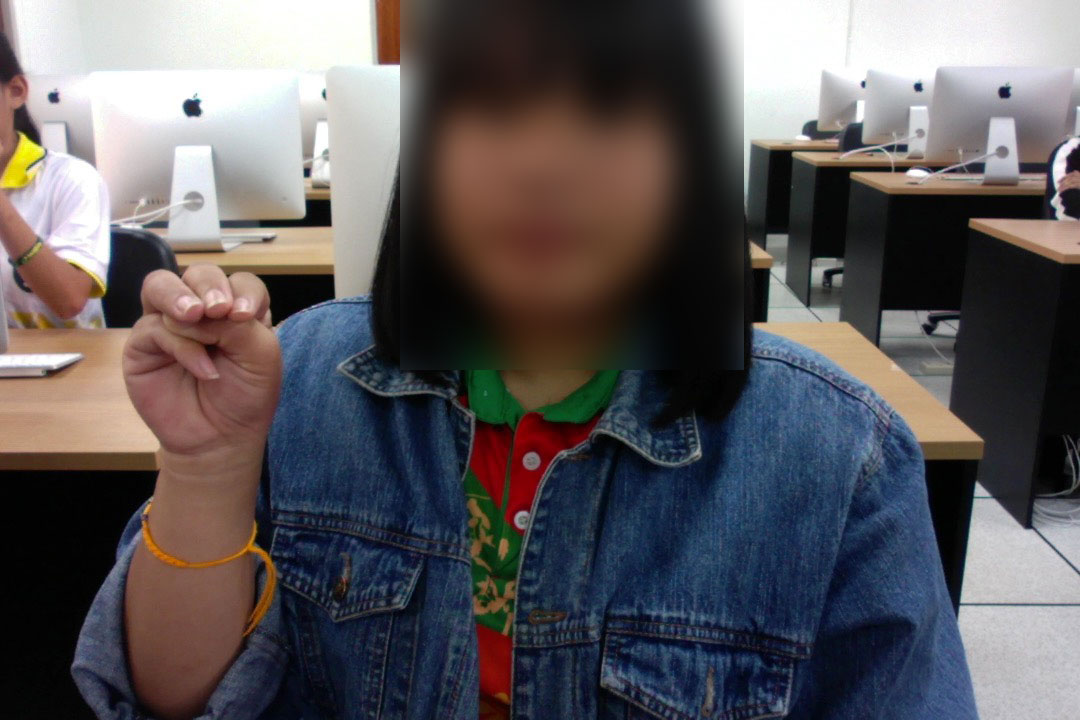mor: (115, 250, 287, 465)
